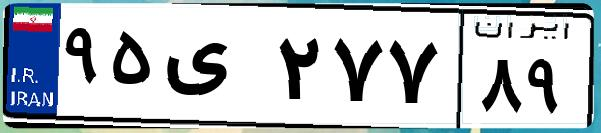2: (270, 28, 330, 110)
5: (110, 28, 158, 98)
7: (385, 28, 445, 110), (330, 28, 385, 110)
8: (475, 38, 525, 113)
9: (57, 26, 110, 100), (525, 38, 570, 115)
ی: (158, 20, 270, 120)
